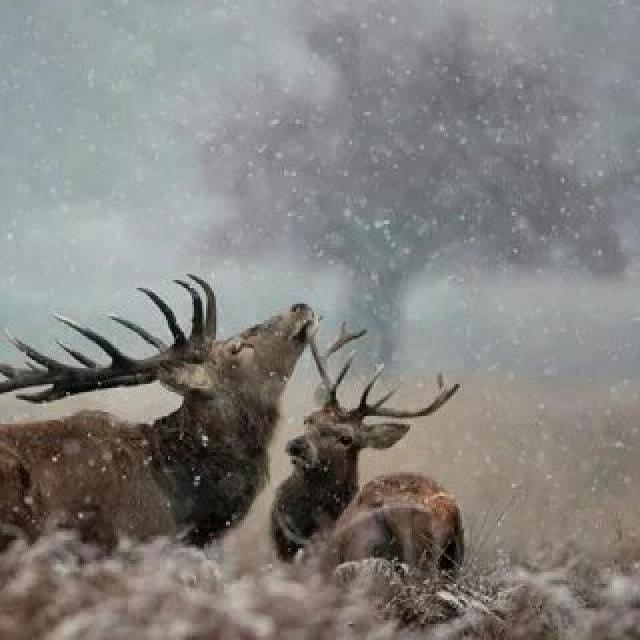deer: (0, 247, 306, 602), (231, 364, 464, 615)
